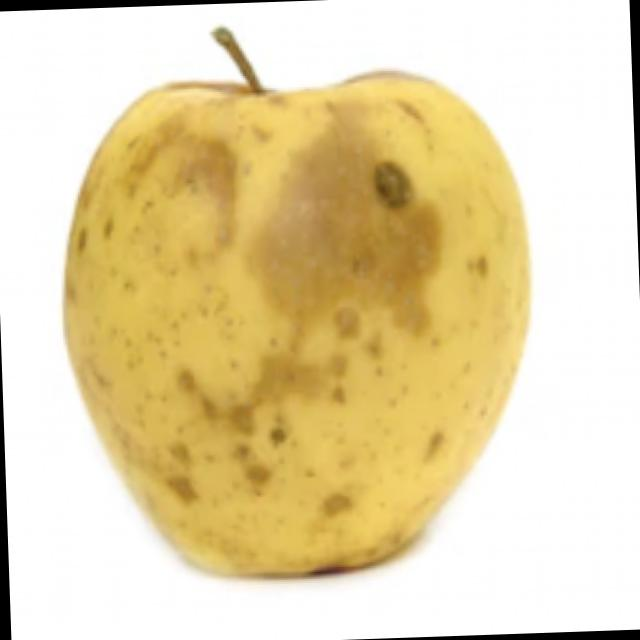rotten_apple: (55, 45, 539, 589)
